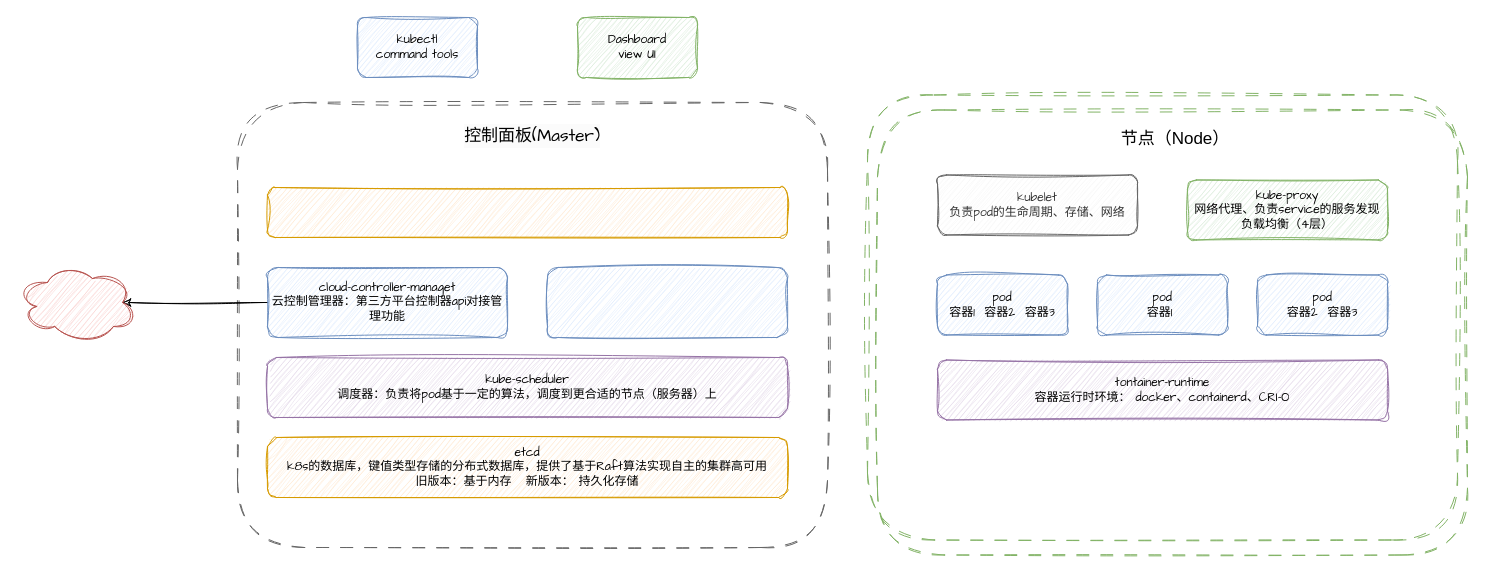
Image size: 1485x573. Some labels were removed from this diagram. The shapes that lost their labels are listed below. From the top down, each one's box as (x1, y1, x2, y2) in pixels, then its label:
(266, 186, 788, 238): api-server interface service , openapi wtih REST style
(16, 262, 138, 342): 第三方云平台
(546, 266, 788, 338): kube-controller-manager 控制器管理器：管理各个类型的控制器，针对k8s中各种资源的管理
